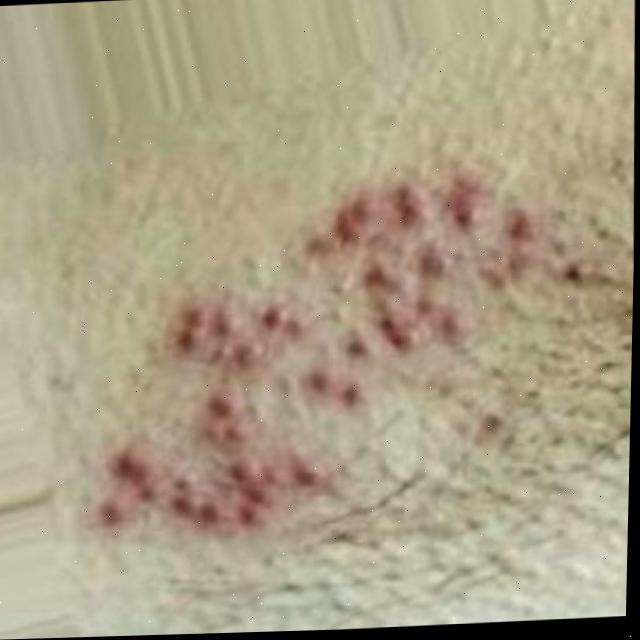Shingles: (79, 175, 535, 535)
